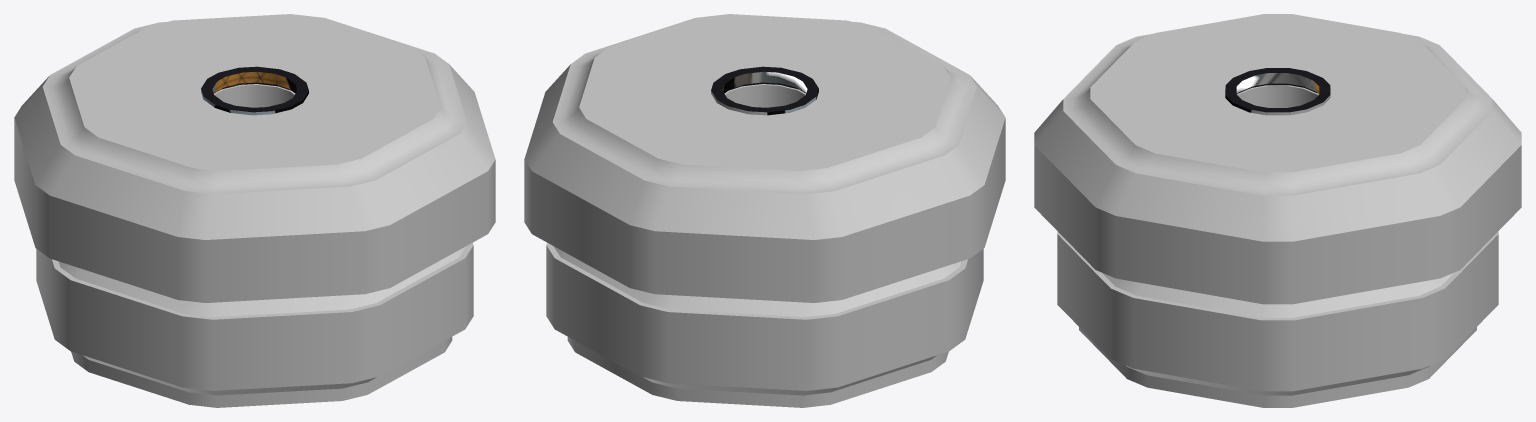
The model's file is Floor_01.fbx.
The picture shows the model from 3 angles, left to right: view 1: azimuth 30°, elevation 25°; view 2: azimuth 150°, elevation 25°; view 3: azimuth 270°, elevation 25°; orthographic projection.
Parts seen in each view (by area): view 1: Circle.020, Circle.024; view 2: Circle.020, Circle.024; view 3: Circle.020, Circle.024.
Boxes of the visible parts, box(x1,y1,x2,y2) form: Circle.020: box(14, 14, 495, 407); Circle.024: box(214, 84, 295, 107); Circle.020: box(524, 14, 1005, 407); Circle.024: box(724, 84, 805, 107); Circle.020: box(1034, 14, 1521, 407); Circle.024: box(1237, 85, 1318, 107).
Size of the model in its own units: 1438 by 798 by 1438.
